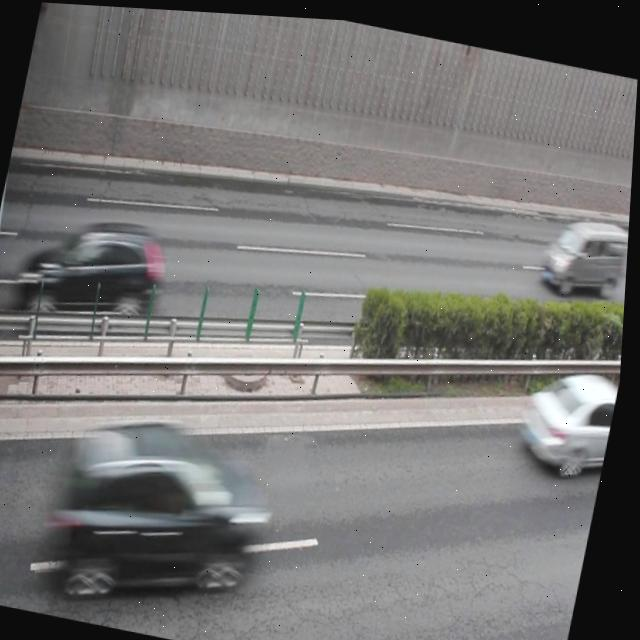car: (47, 397, 289, 622), (13, 198, 176, 333), (515, 354, 624, 477)
truck: (540, 202, 632, 296)
